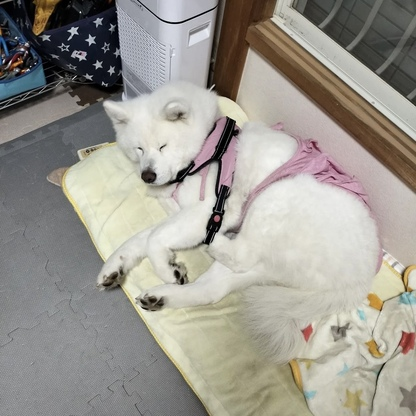akita: (87, 75, 389, 370)
